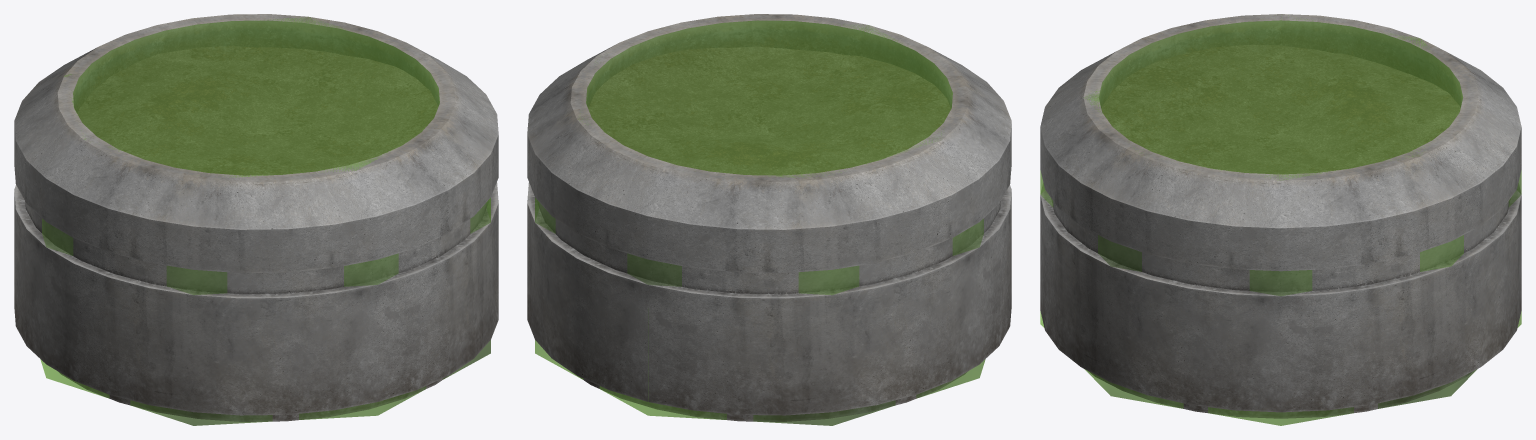
The model's file is p_Planter_01_a.fbx.
3 renders of one model, left to right at view 1: azimuth 30°, elevation 25°; view 2: azimuth 150°, elevation 25°; view 3: azimuth 270°, elevation 25°, orthographic.
Visible parts, largest first — view 1: p_Planter_01_a_LOD0, p_Planter_01_a_col; view 2: p_Planter_01_a_LOD0, p_Planter_01_a_col; view 3: p_Planter_01_a_LOD0, p_Planter_01_a_col.
Boxes of the visible parts, box(x1,y1,x2,y2) form: p_Planter_01_a_LOD0: box(14, 14, 498, 421); p_Planter_01_a_col: box(40, 17, 490, 425); p_Planter_01_a_LOD0: box(527, 14, 1011, 421); p_Planter_01_a_col: box(535, 20, 985, 425); p_Planter_01_a_LOD0: box(1040, 14, 1521, 418); p_Planter_01_a_col: box(1040, 15, 1521, 425).
Size of what is drawn, in the model's own units: 70.72 by 36.78 by 70.71.
